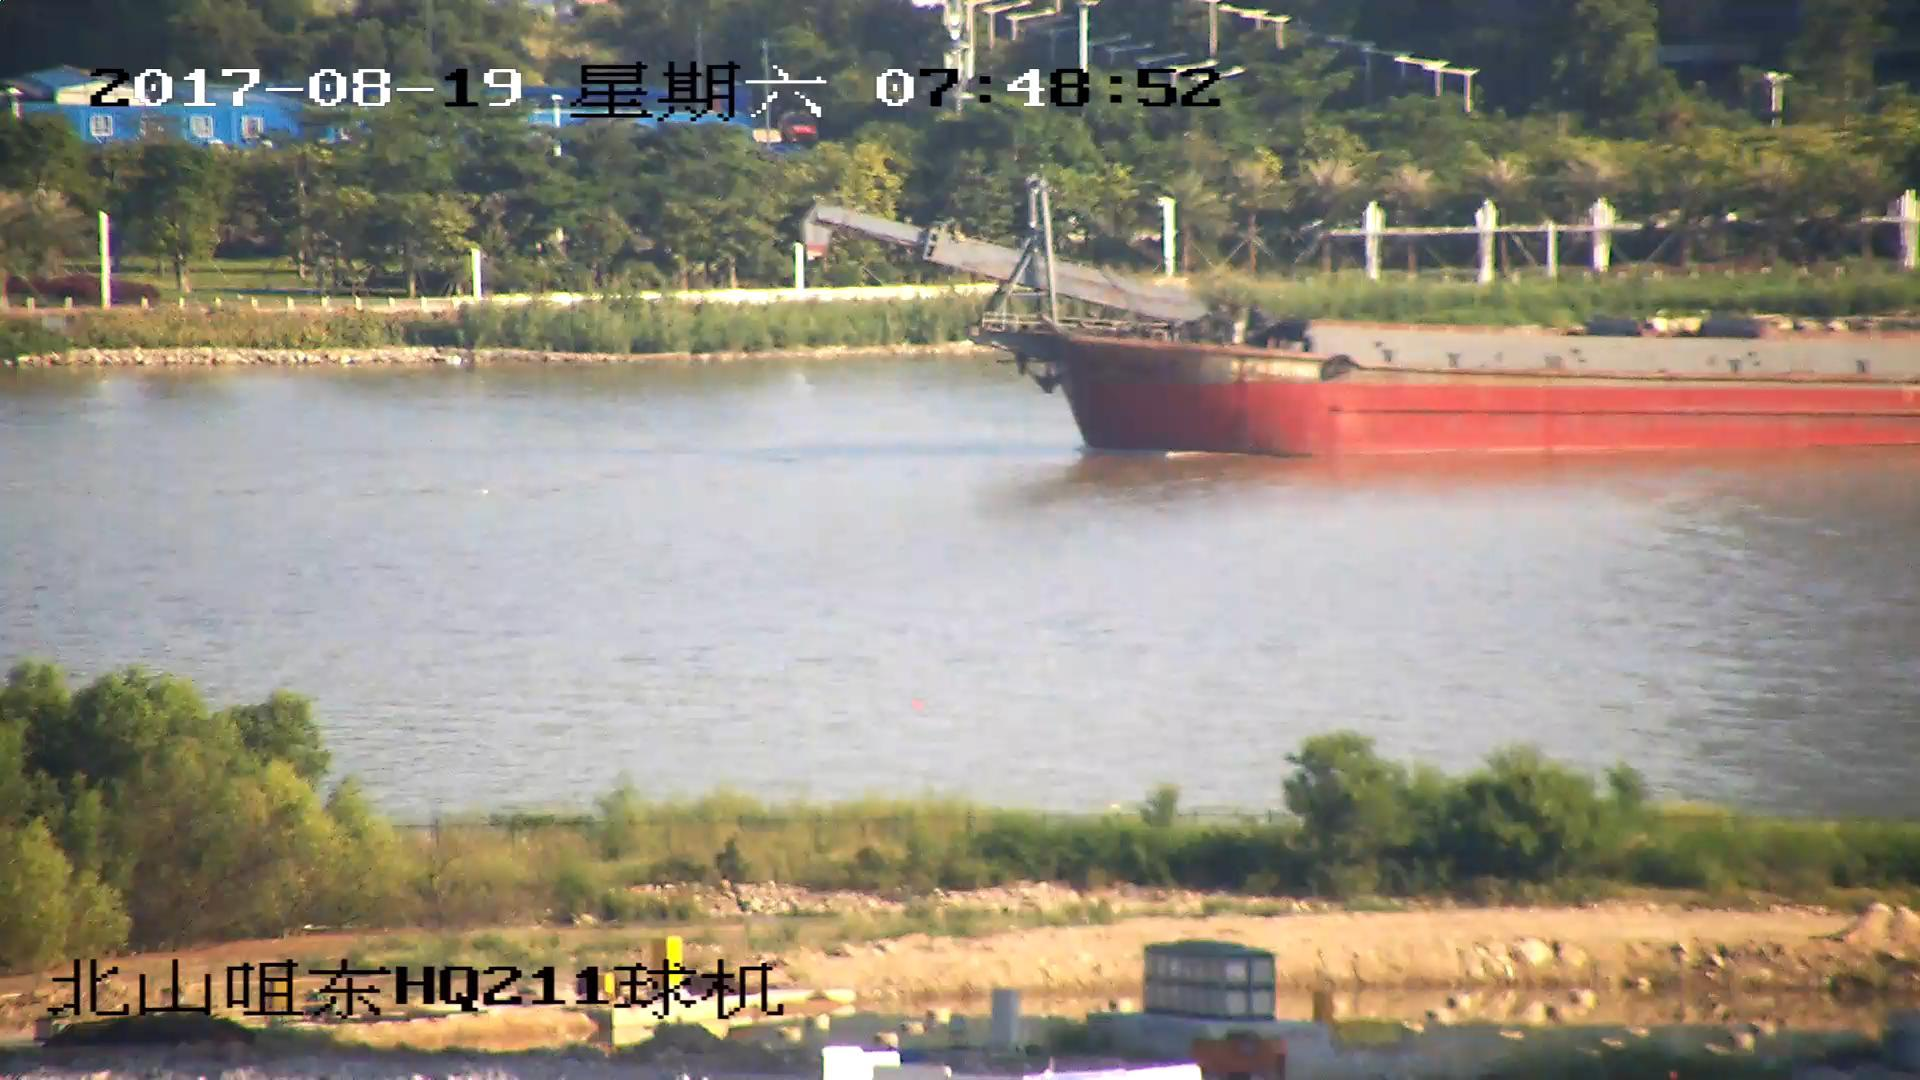Ship: (807, 191, 1920, 458)
